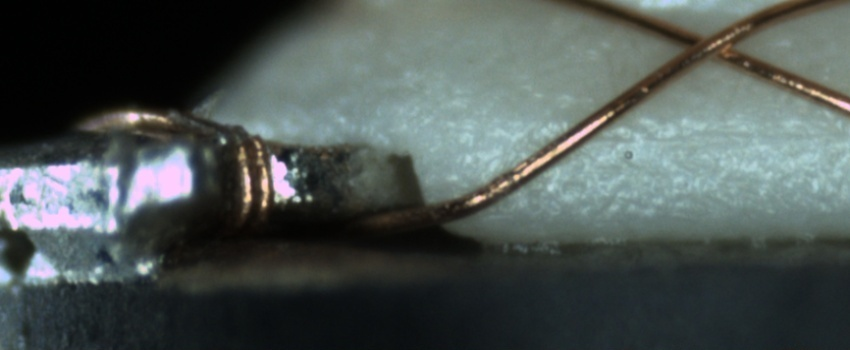CL: (666, 15, 760, 72)
DL: (566, 101, 849, 168)
TE: (68, 102, 282, 230)
